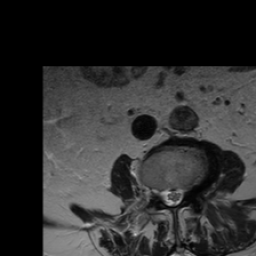CCS_stenosis: (168, 181, 176, 210)
LFS_severe_stenosis: (184, 179, 192, 204)
LLS_normal: (176, 181, 184, 206)
RFS_normal: (152, 181, 160, 204)
RLS_normal: (160, 184, 168, 209)
